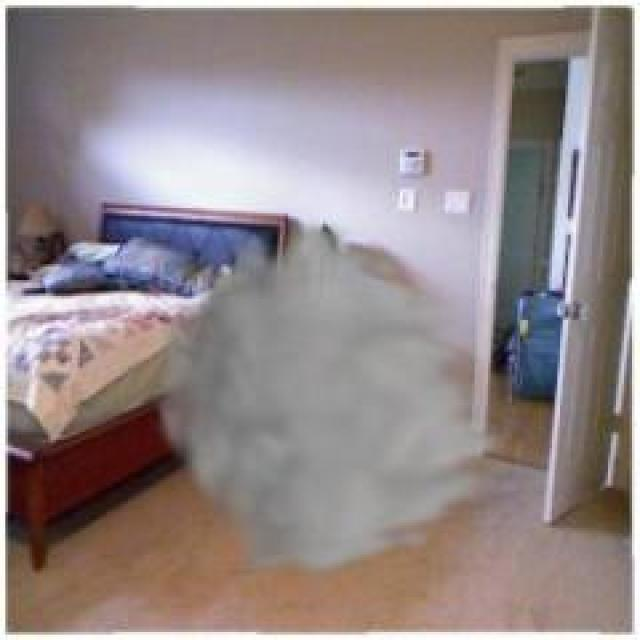Smoke: (147, 215, 519, 587)
